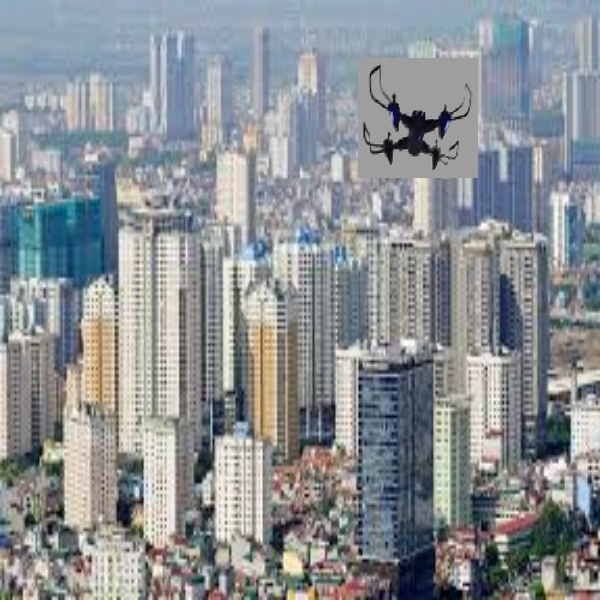drone: (362, 59, 478, 177)
